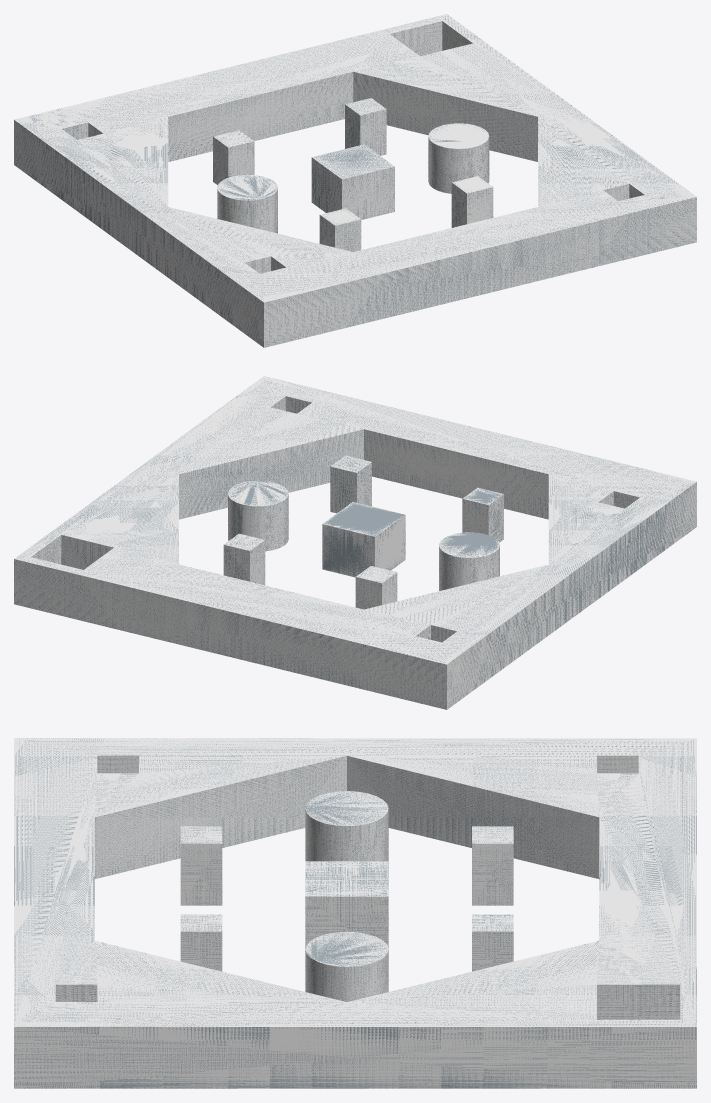
3 views of the same model, one above another, from view 1: azimuth 30°, elevation 25°; view 2: azimuth 150°, elevation 25°; view 3: azimuth 270°, elevation 25° (orthographic). The views are drawn at different scales.
Visible parts, largest first — view 1: Model; view 2: Model; view 3: Model.
Part boxes in pixels (x1,y1,x2,y2): Model: [14, 14, 696, 347]; Model: [14, 376, 696, 709]; Model: [14, 738, 696, 1088].
Size of the model in its own units: 5 by 0.5 by 5.
